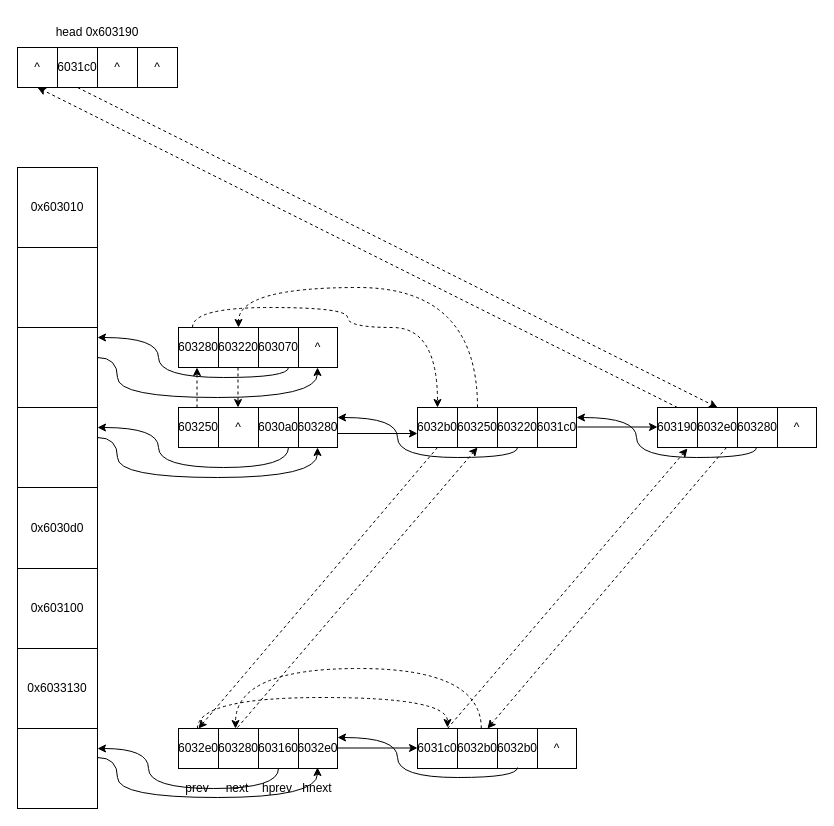
Some shapes in this 834 by 826 pixel diagram are drawn without their labels. Here are the shapes that lost their labels. From the top down, the centre of each, then its label:
At (x=57, y=287): "0x603040".
At (x=57, y=367): "0x603070".
At (x=57, y=447): "0x6030a0".
At (x=57, y=768): "0x603160".
